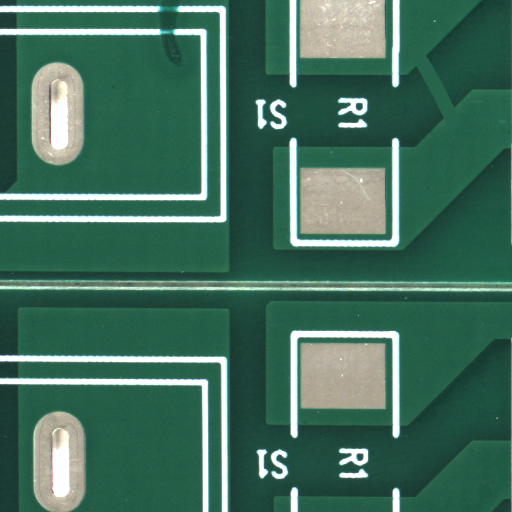Short: (433, 91, 487, 166)
